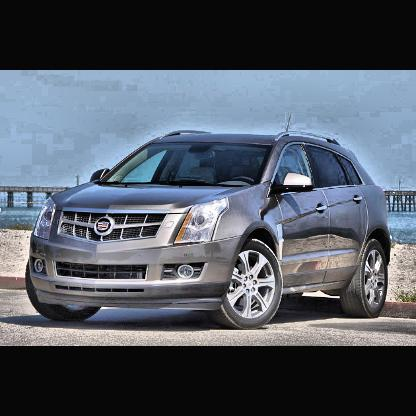Cadillac SRX SUV 2012: (27, 116, 390, 329)
